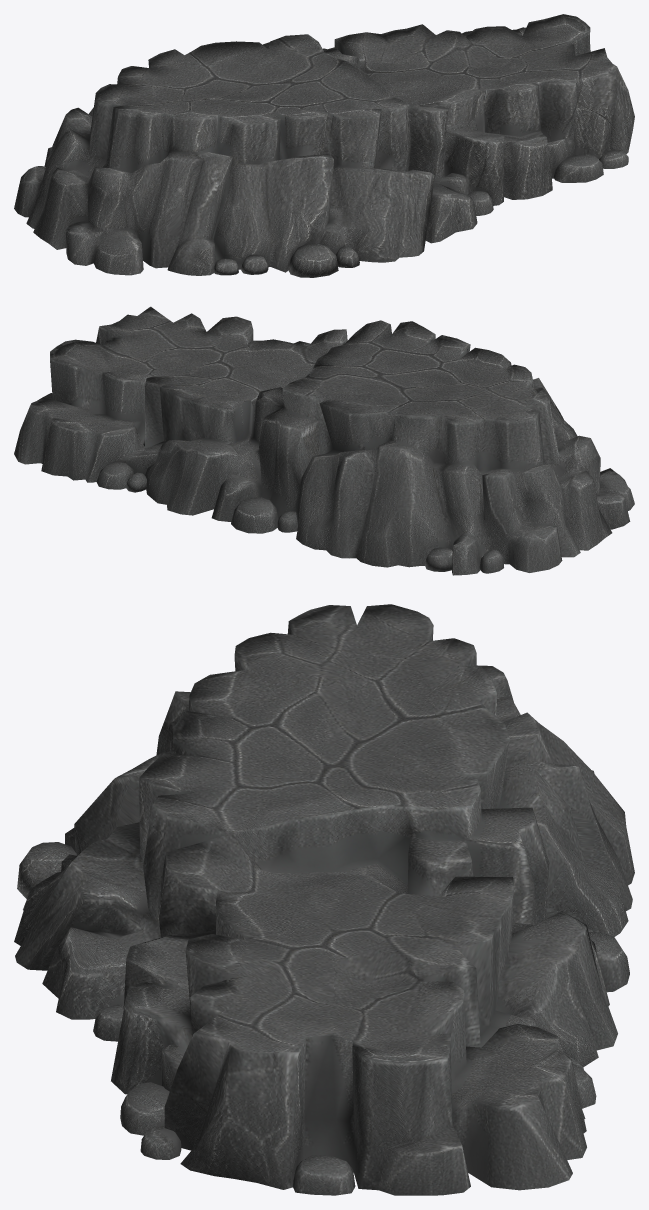
Rendered from rock_shelf_low_v1.glb.
3 renders of one model, top to bottom at view 1: azimuth 30°, elevation 25°; view 2: azimuth 150°, elevation 25°; view 3: azimuth 270°, elevation 25°, orthographic. The views are drawn at different scales.
Size of the model in its own units: 1 by 0.2138 by 0.5937.
Materials: 1 (1 with a texture image).
